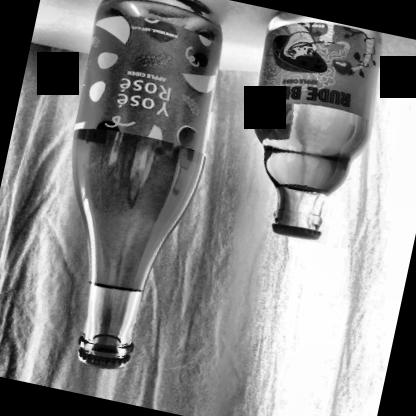yoserose: (68, 7, 230, 158)
